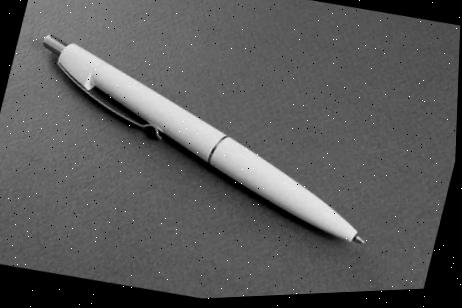pen-pencil: (44, 36, 364, 242)
